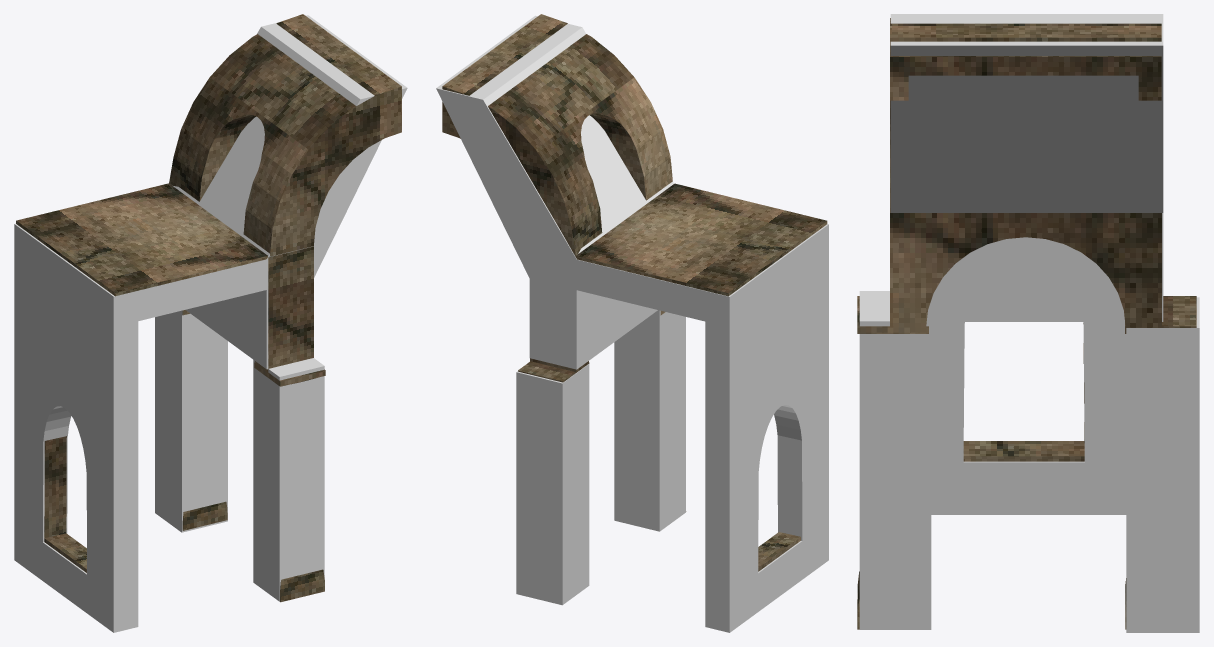
Rendered from Normal.gltf.
3 renders of one model, left to right at view 1: azimuth 30°, elevation 25°; view 2: azimuth 150°, elevation 25°; view 3: azimuth 270°, elevation 25°, orthographic. The views are drawn at different scales.
Visible parts, largest first — view 1: COL01, 円.002; view 2: COL01, 円.002; view 3: COL01, 円.002.
Boxes of the visible parts, x1,y1,x2,y2 form: COL01: [14, 15, 407, 632]; 円.002: [16, 14, 401, 602]; COL01: [436, 15, 828, 632]; 円.002: [442, 14, 827, 571]; COL01: [859, 14, 1199, 632]; 円.002: [857, 18, 1196, 629].
Bounding box in the file's own units: 26.78 × 41.49 × 19.68.
1 material, 1 textured.
